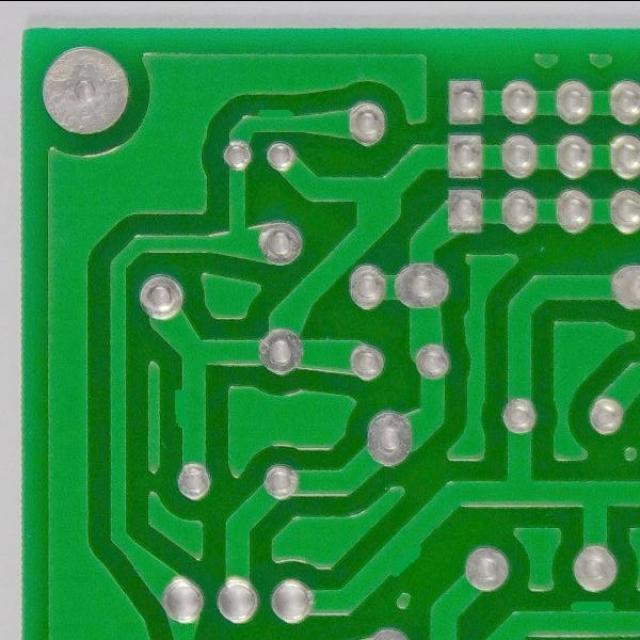Spur: (366, 532, 431, 585), (558, 594, 626, 639), (166, 380, 216, 437), (251, 104, 302, 138)
